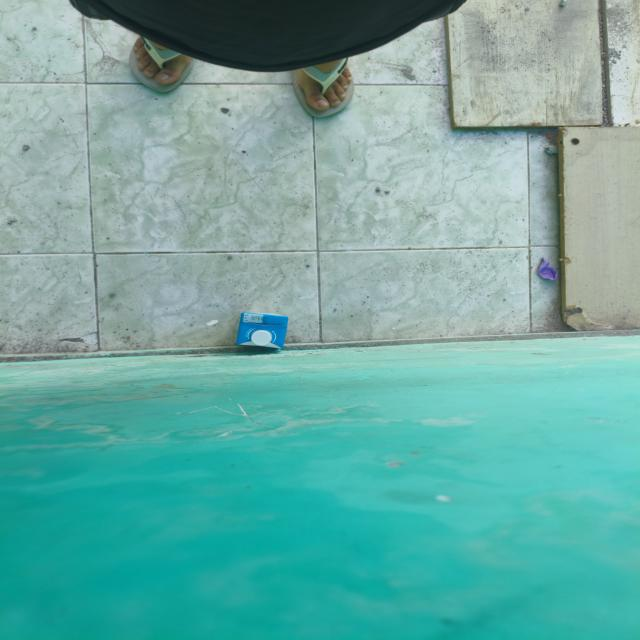Caixa de Leite: (236, 310, 291, 349)
